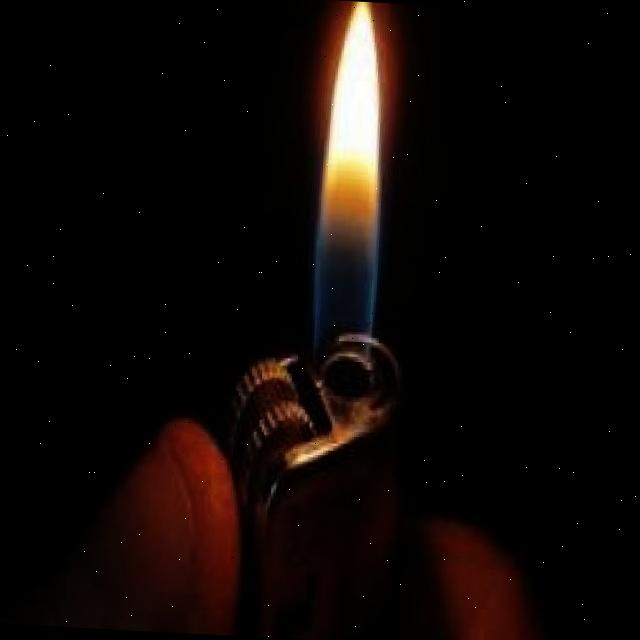fire: (311, 0, 392, 358)
